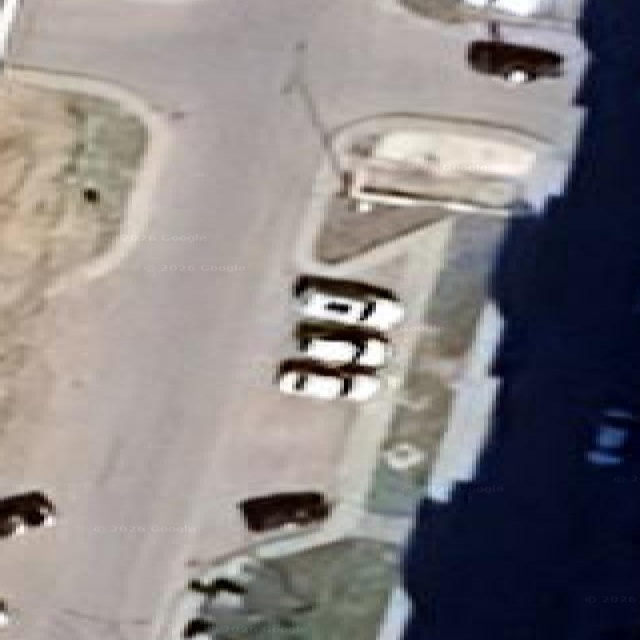car: (293, 275, 403, 330), (276, 358, 380, 400), (294, 322, 389, 367), (467, 39, 563, 83), (237, 492, 330, 531), (587, 405, 639, 465), (0, 491, 55, 536), (463, 0, 547, 17), (188, 576, 246, 597), (182, 617, 214, 639), (0, 599, 10, 628)
